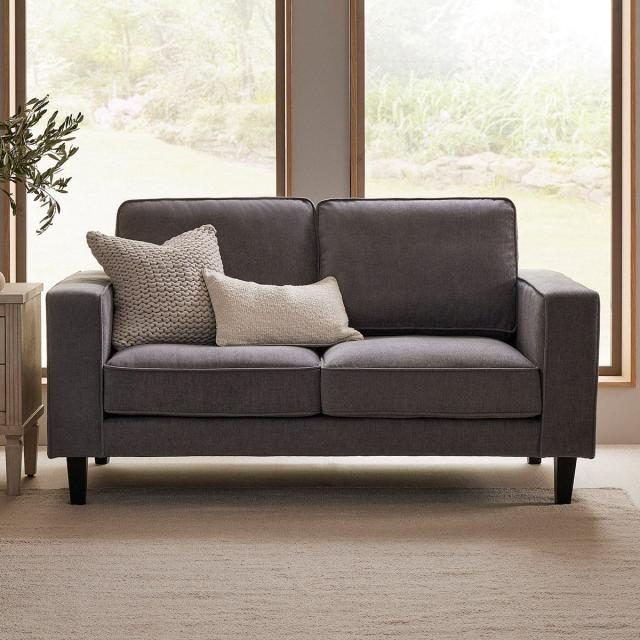sofa: (44, 194, 601, 506)
